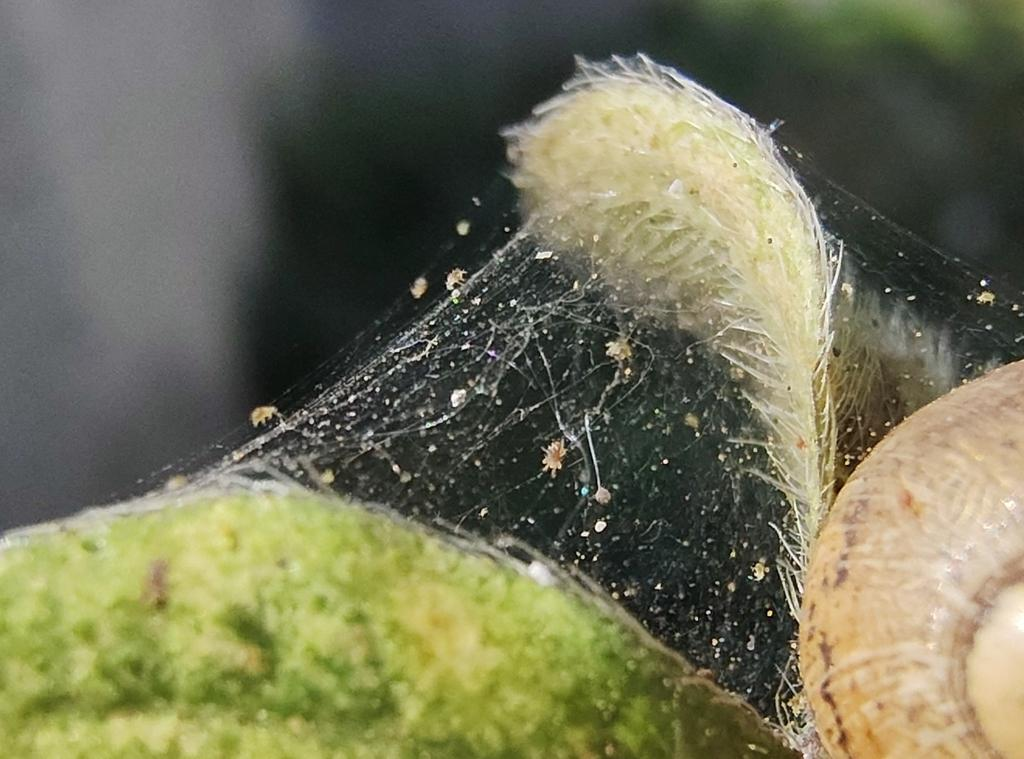tiny_pests: (527, 426, 581, 481), (245, 391, 289, 436), (599, 329, 641, 374), (398, 263, 438, 309), (441, 254, 478, 301)
